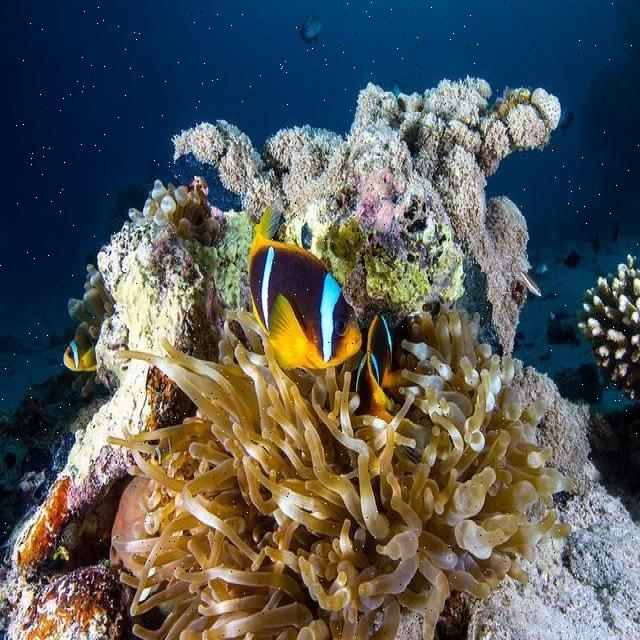fish: (248, 199, 362, 372), (356, 308, 429, 461), (63, 327, 99, 372)
reefs: (107, 306, 577, 638), (129, 178, 219, 243), (66, 261, 115, 329)
